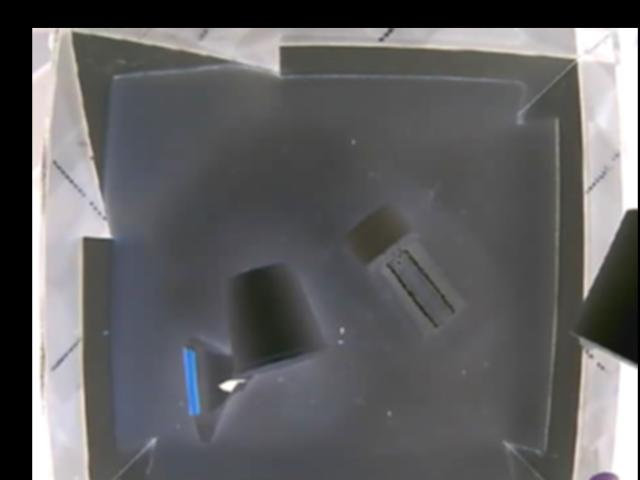Bottle: (347, 205, 469, 337)
China: (184, 342, 253, 441)
Cup: (226, 259, 329, 377)
